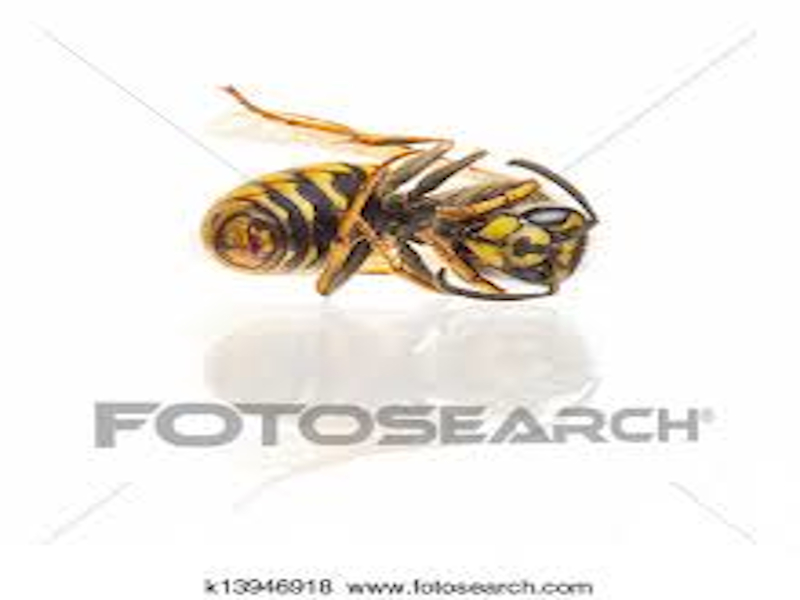chax: (192, 52, 621, 366)
